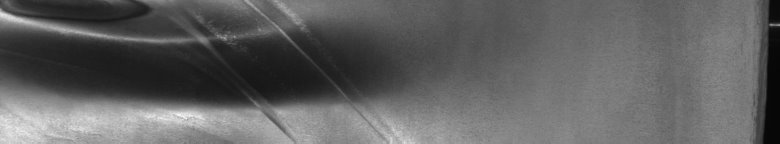ke: (4, 4, 345, 136)
